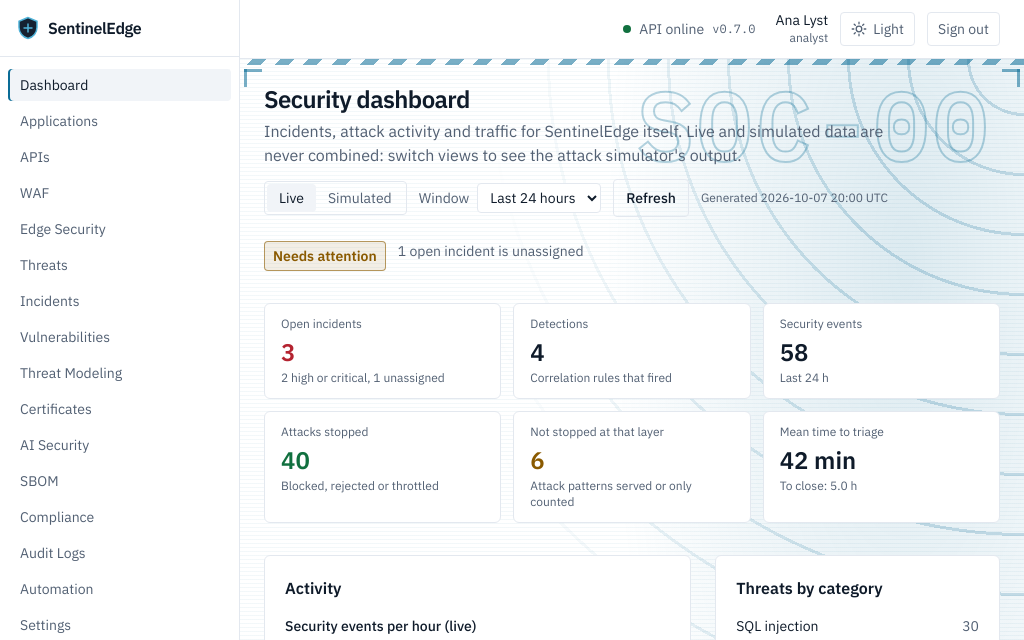
Scenario: security dashboard › never shows live data under the simulated banner while the other view loads
Click the radio button labelled "Simulated".
click(360, 198)  # box [328,189,392,207]
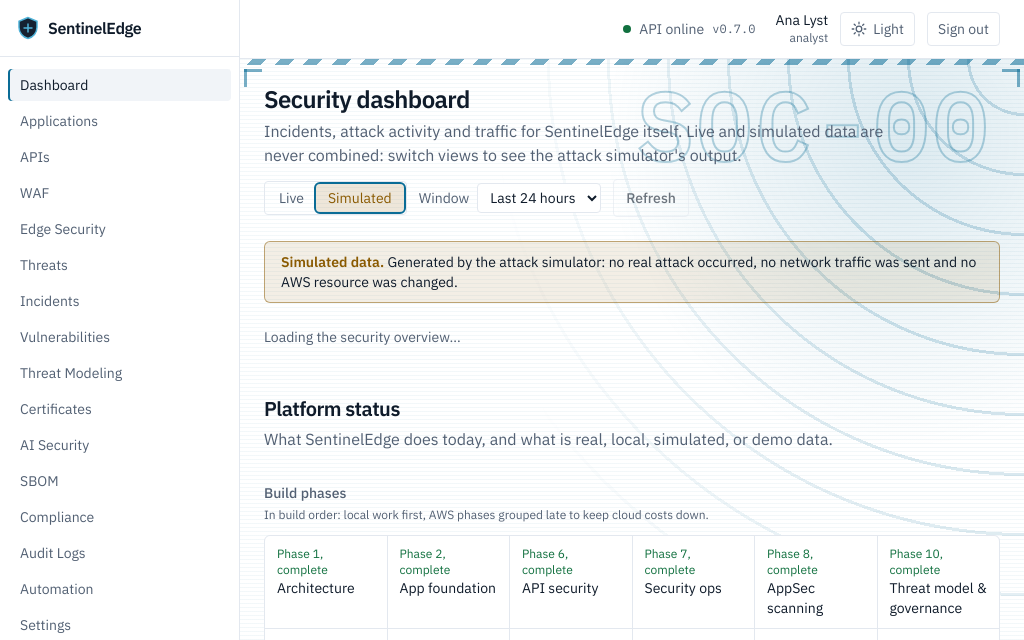
Expected: the text "Simulated data." is shown, [281,253,384,271]
Expected: the text "Loading the security overview…" is shown, [264,328,461,346]
